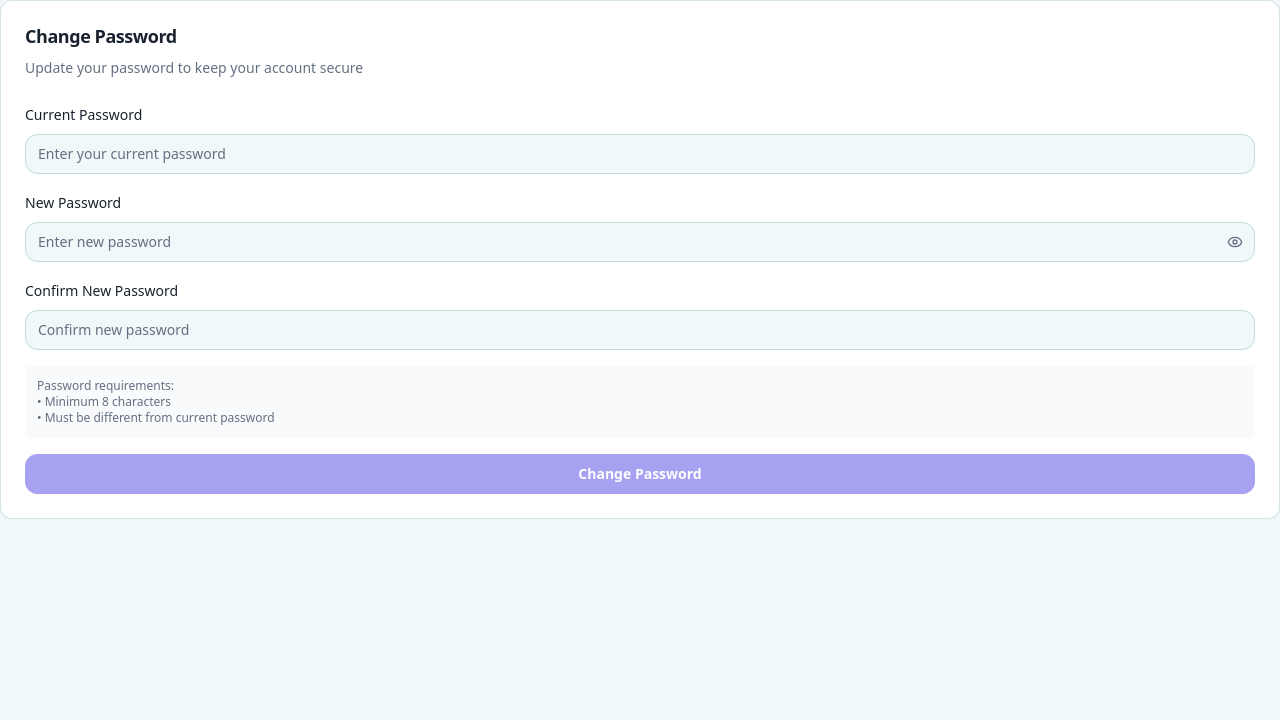
Test: PasswordChangeForm › should display error message on API failure
This screenshot has width=1280, height=720.
Type "wrongpass" into the password field labelled "Current Password" at (640, 154), box [25, 134, 1255, 174]
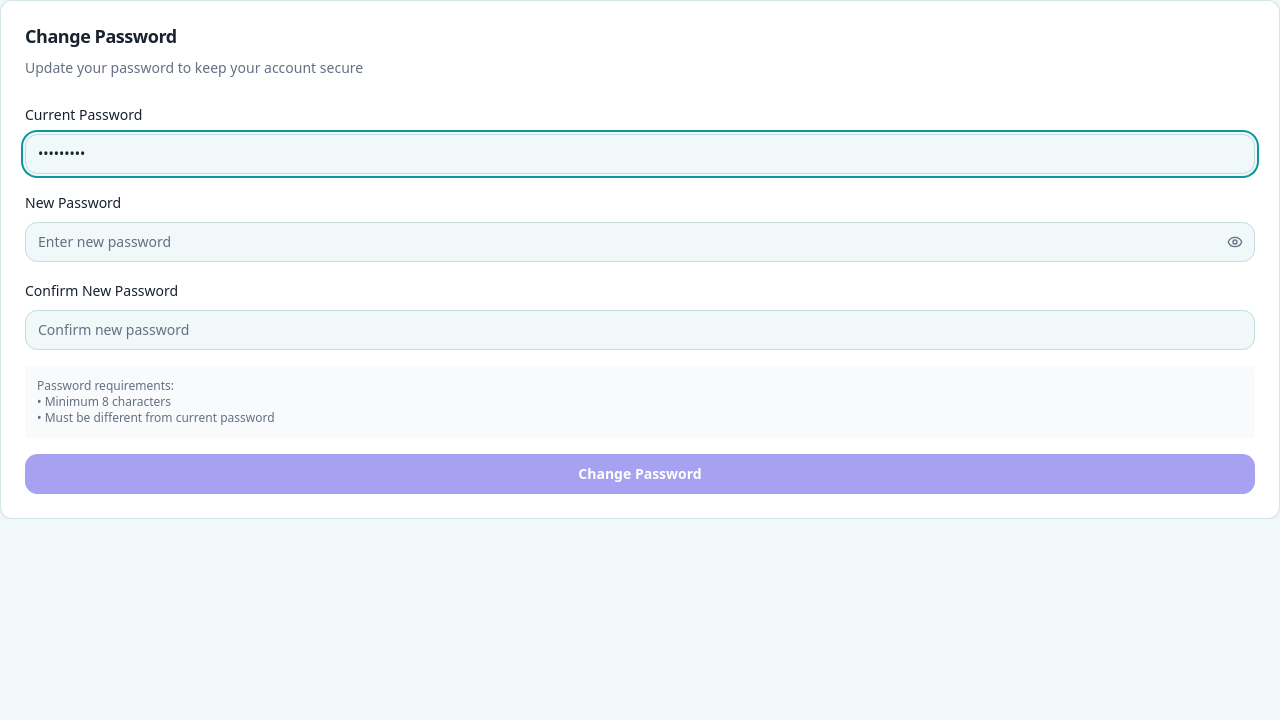
Type "newpass123" into the password field labelled "New Password" at (640, 242), box [25, 222, 1255, 262]
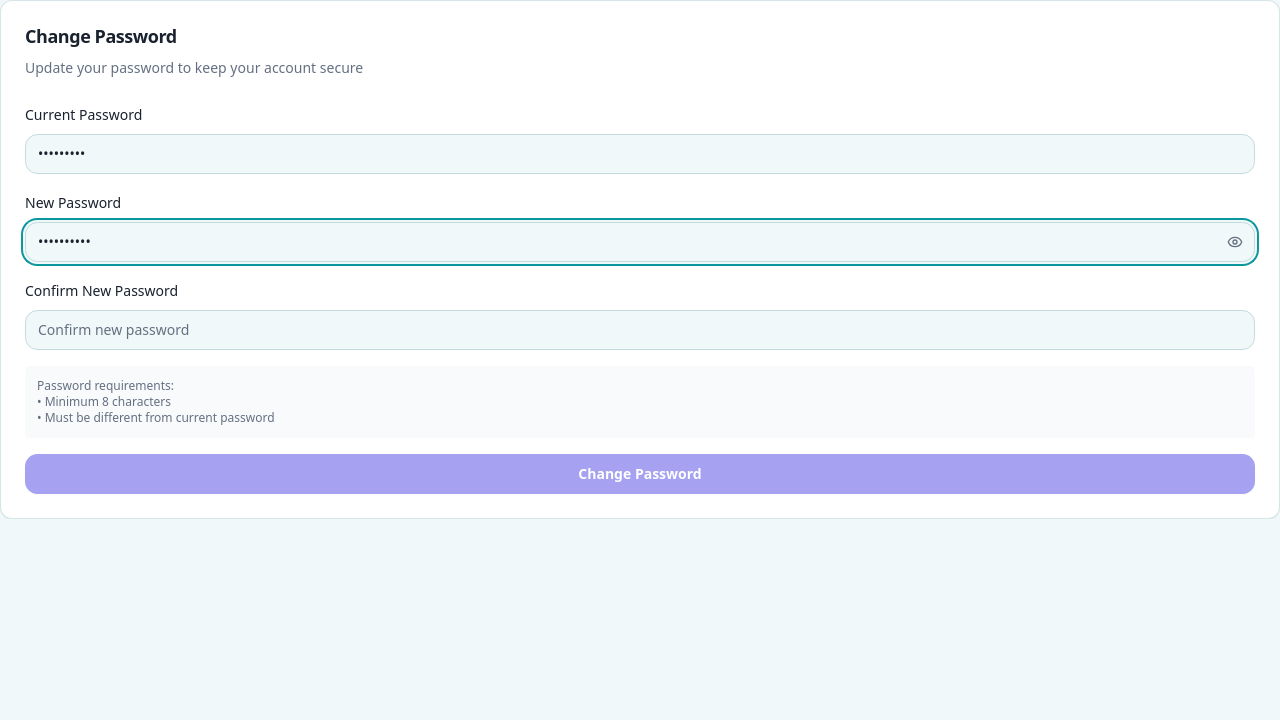
Type "newpass123" into the password field labelled "Confirm New Password" at (640, 330), box [25, 310, 1255, 350]
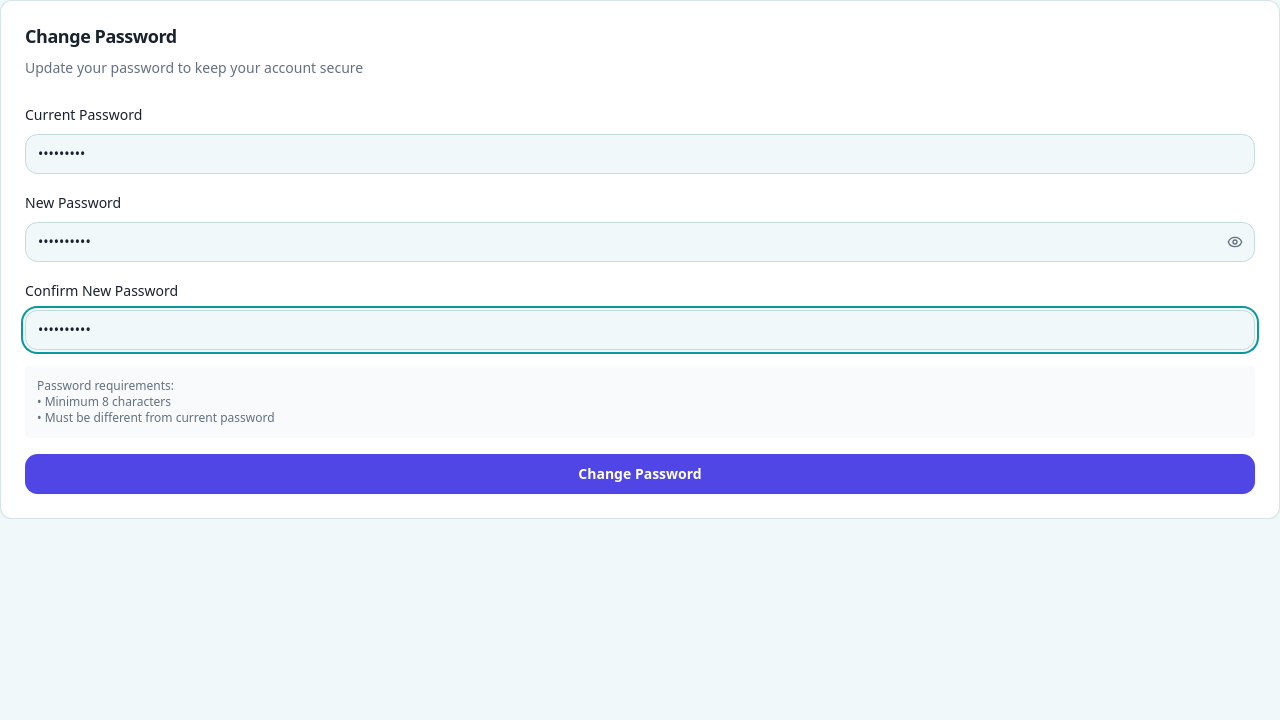
Click the button "Change Password" at (640, 474), box [25, 454, 1255, 494]
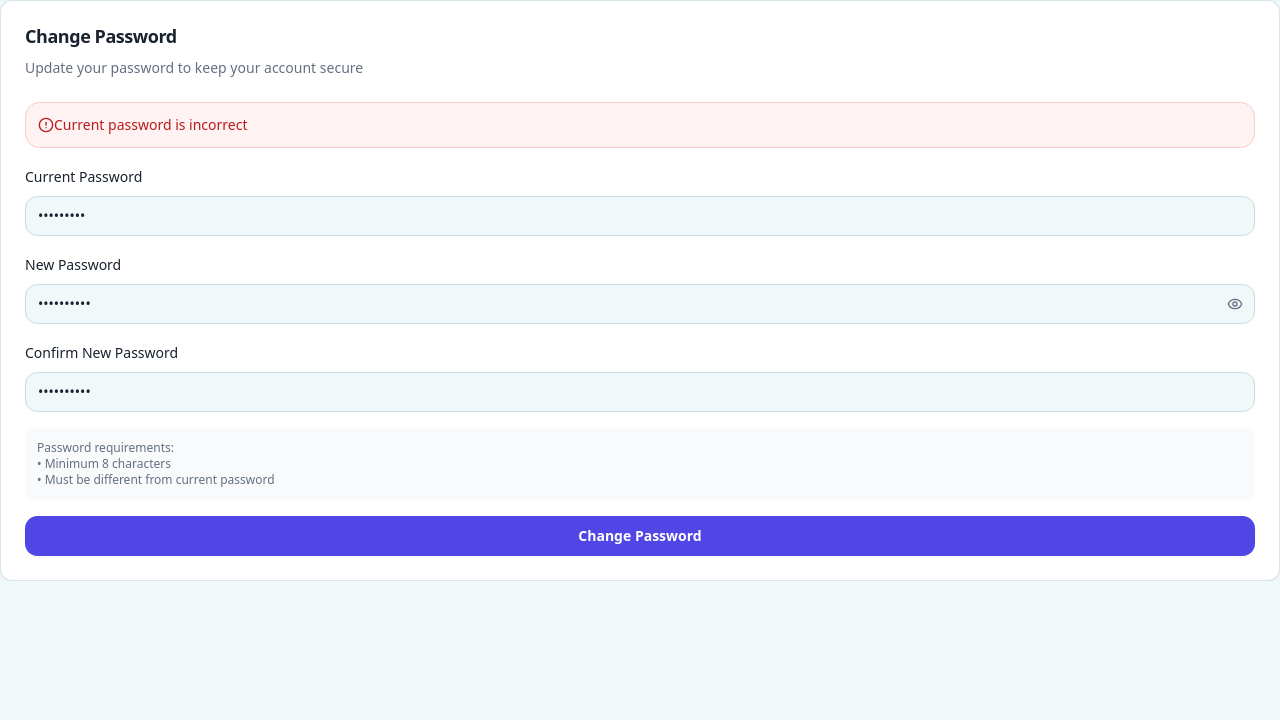
Now the text "Current password is incorrect" is shown, box [54, 114, 248, 134]
